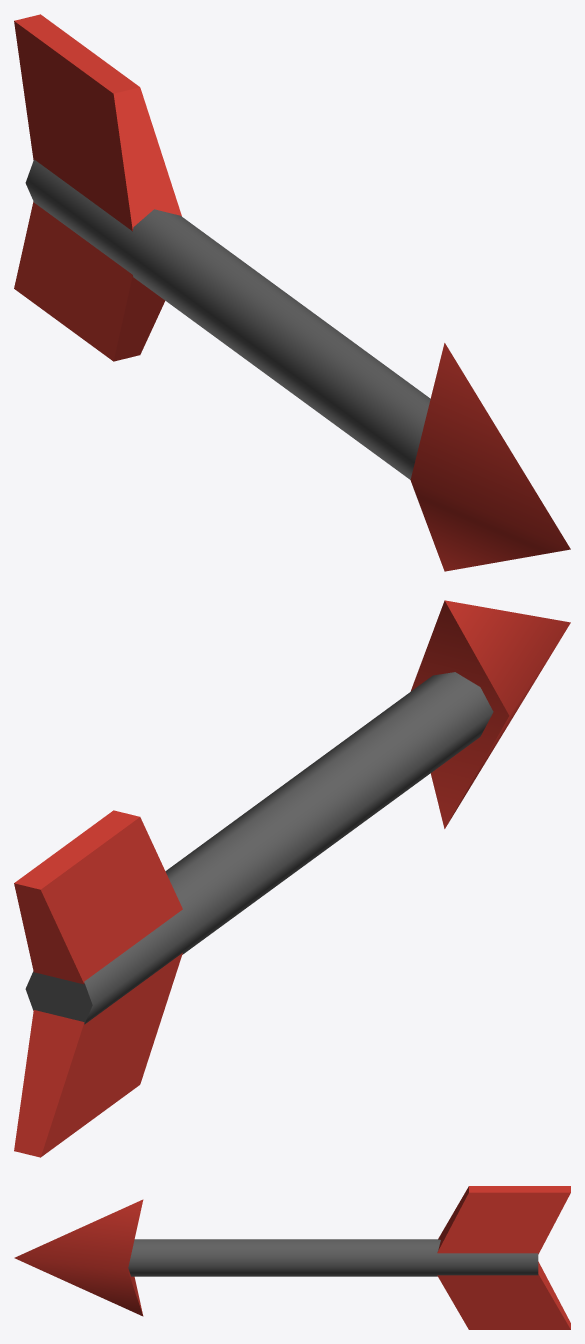
File: scene_hOEjJL4EfD.glb
3 views of the same model, one above another, from view 1: azimuth 30°, elevation 25°; view 2: azimuth 150°, elevation 25°; view 3: azimuth 270°, elevation 25° (orthographic). The views are drawn at different scales.
Parts seen in each view (by area): view 1: Obstacle_Arrow_01; view 2: Obstacle_Arrow_01; view 3: Obstacle_Arrow_01.
Boxes of the visible parts, left/top/right/bottom form: Obstacle_Arrow_01: left=14, top=14, right=570, bottom=571; Obstacle_Arrow_01: left=14, top=600, right=570, bottom=1157; Obstacle_Arrow_01: left=14, top=1186, right=570, bottom=1329.
Bounding box in the file's own units: 0.0683 × 0.1767 × 0.6499.
Materials: 1 (1 with a texture image).
